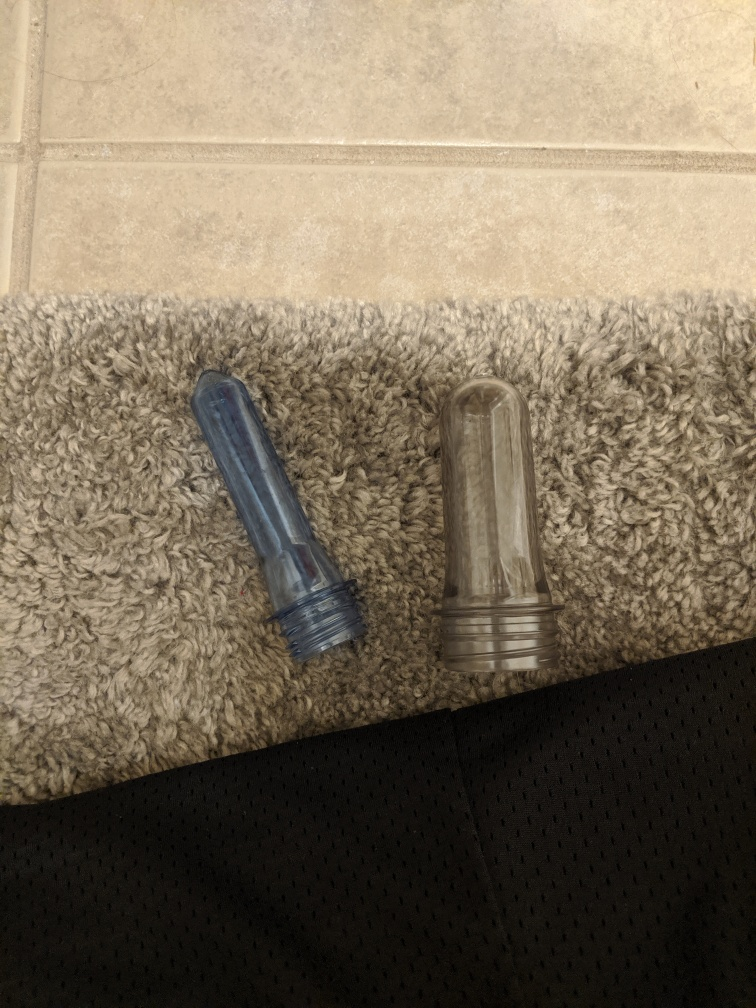preform: (185, 362, 372, 668), (422, 369, 571, 686)
